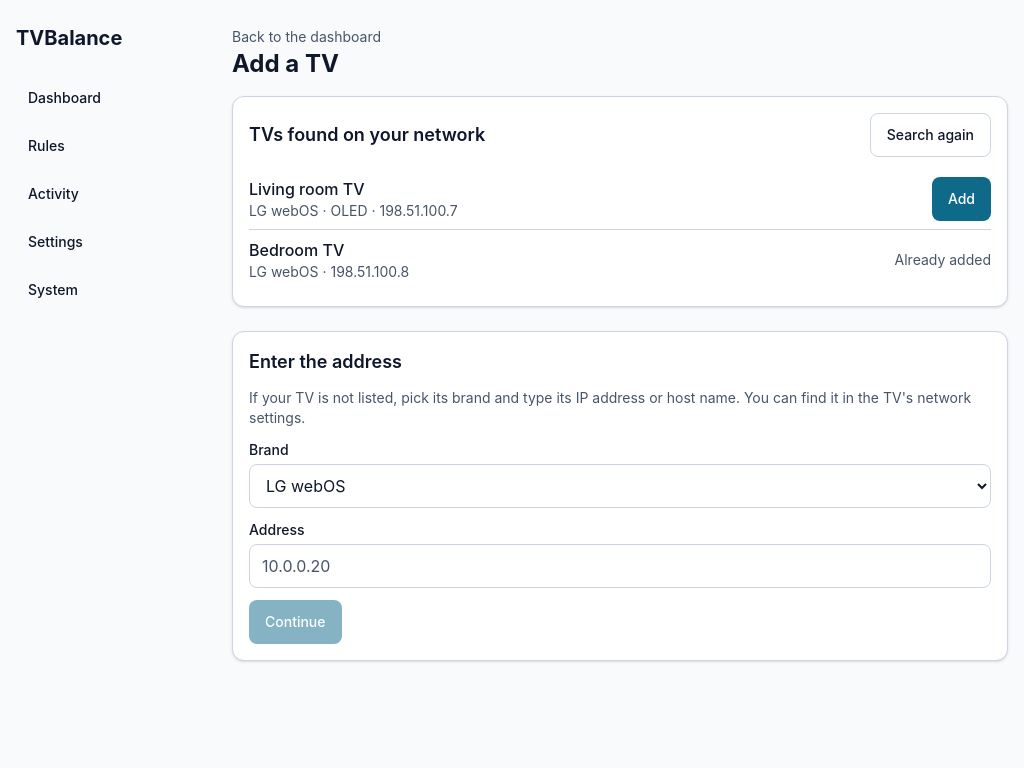
Test case: add a TV › says when the TV is already added
Click the button with aria-label "Add Living room TV". click: {"x": 961, "y": 199}
box: [932, 177, 991, 221]
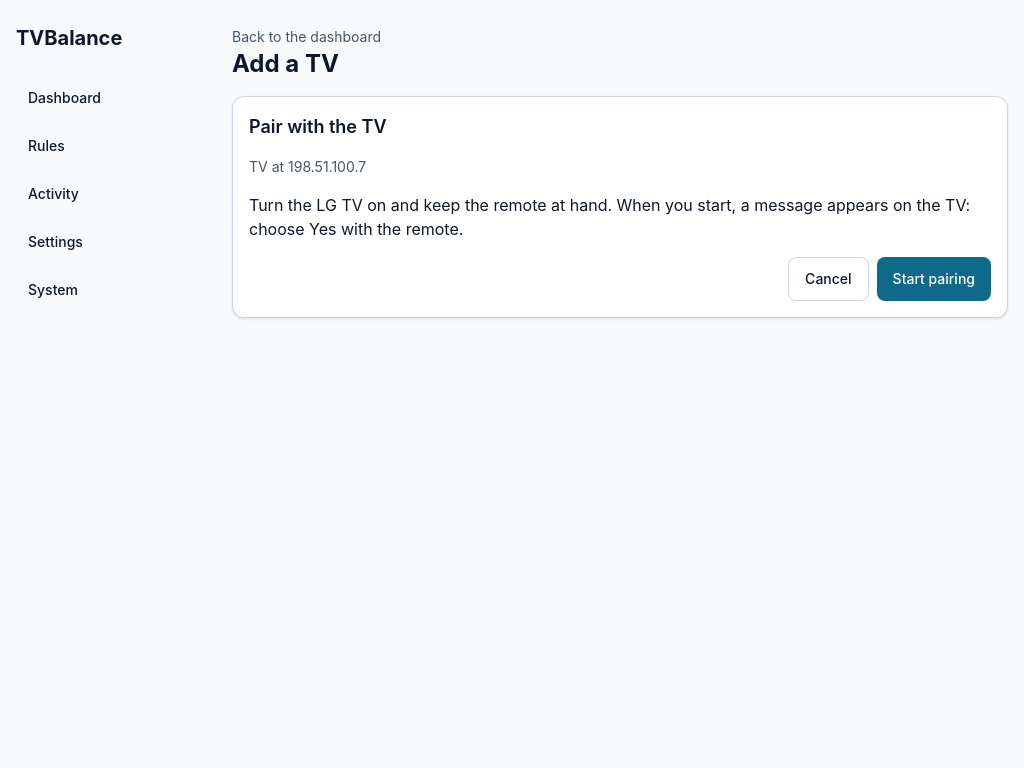
Click the button "Start pairing". click: {"x": 934, "y": 279}
box: [877, 257, 991, 301]
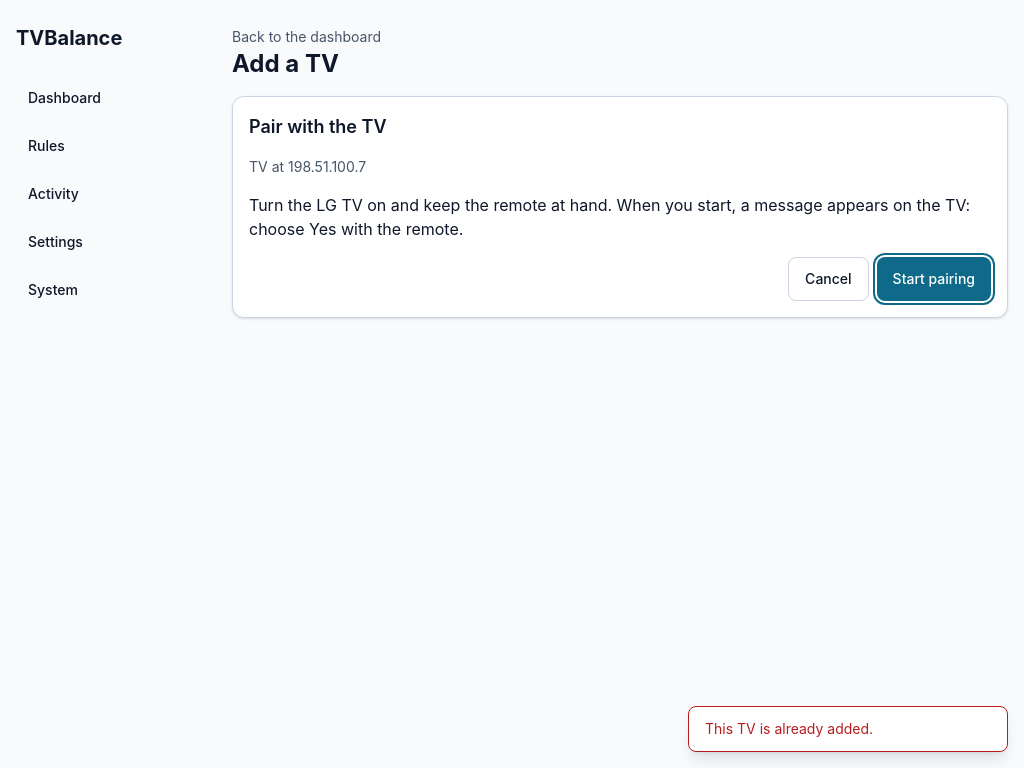
Expected: the text "This TV is already added." is shown, [688, 706, 1008, 752]
